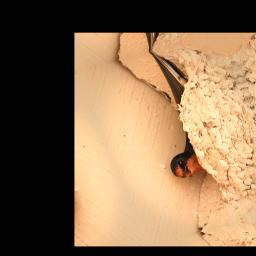Swallow: (123, 44, 232, 183)
